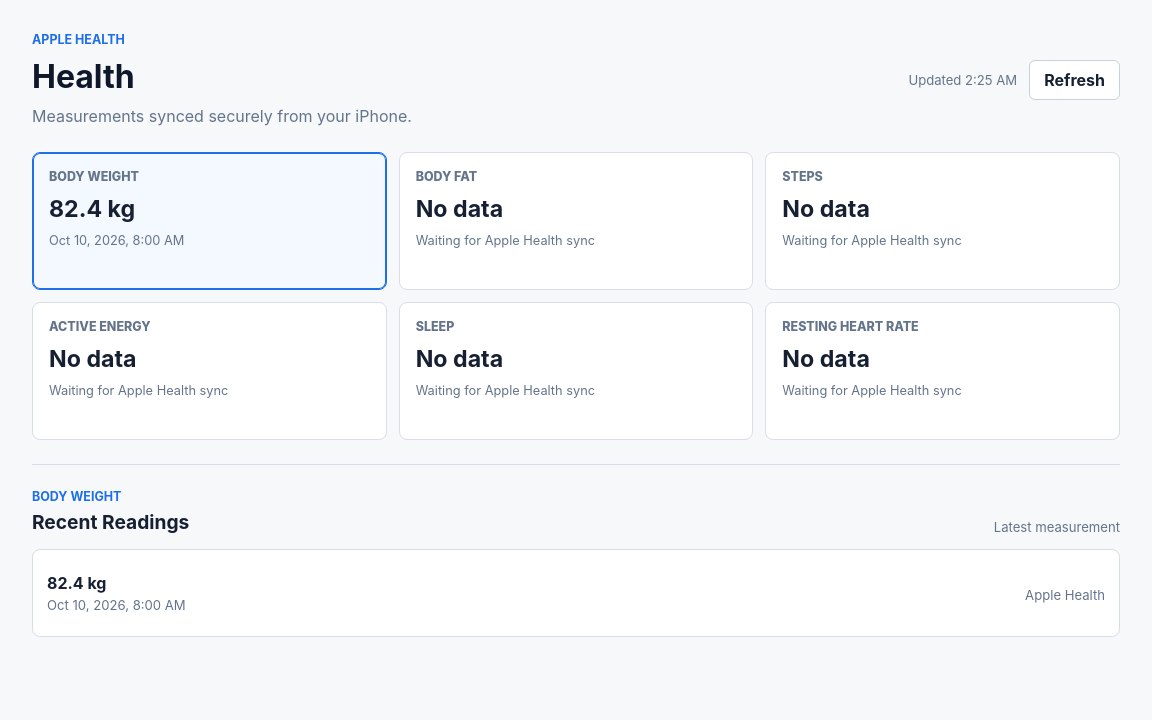
Test case: HealthOverview › shows an empty state for metrics that have not synced
The width and height of the screenshot is (1152, 720).
Click the button "Sleep No data Waiting for Apple Health sync" at point(435, 326), box [399, 302, 753, 440]
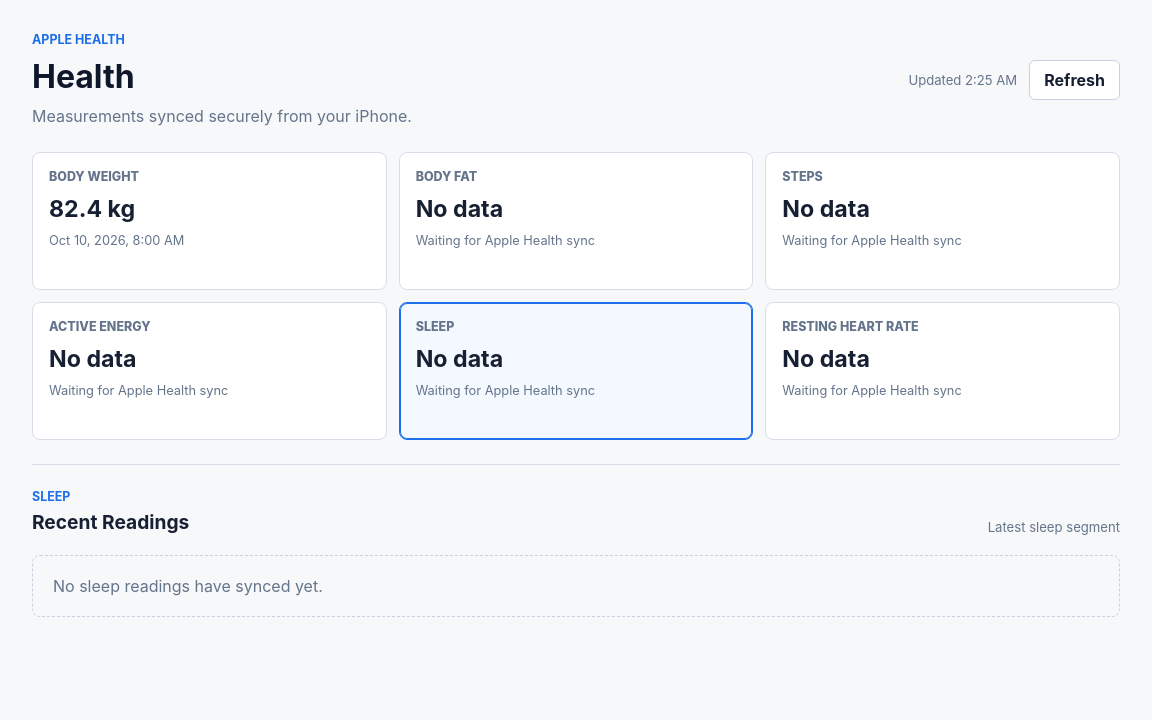
Expected: the text "No sleep readings have synced yet." is shown, [32, 555, 1120, 617]
